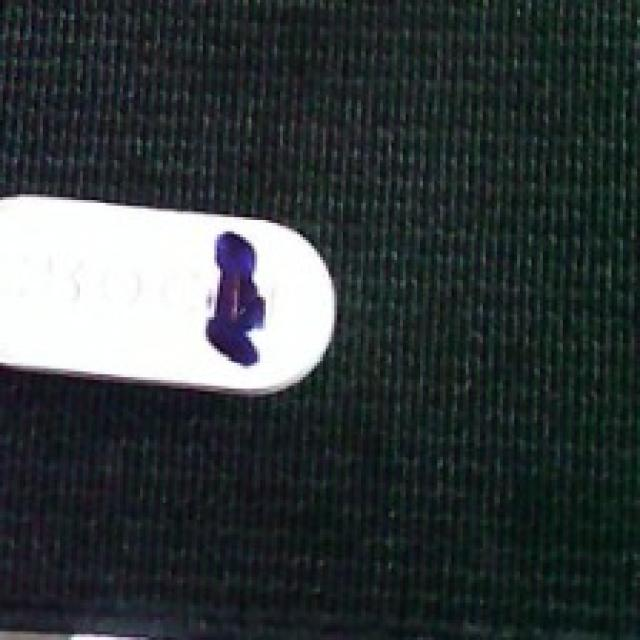defected: (3, 194, 343, 400)
